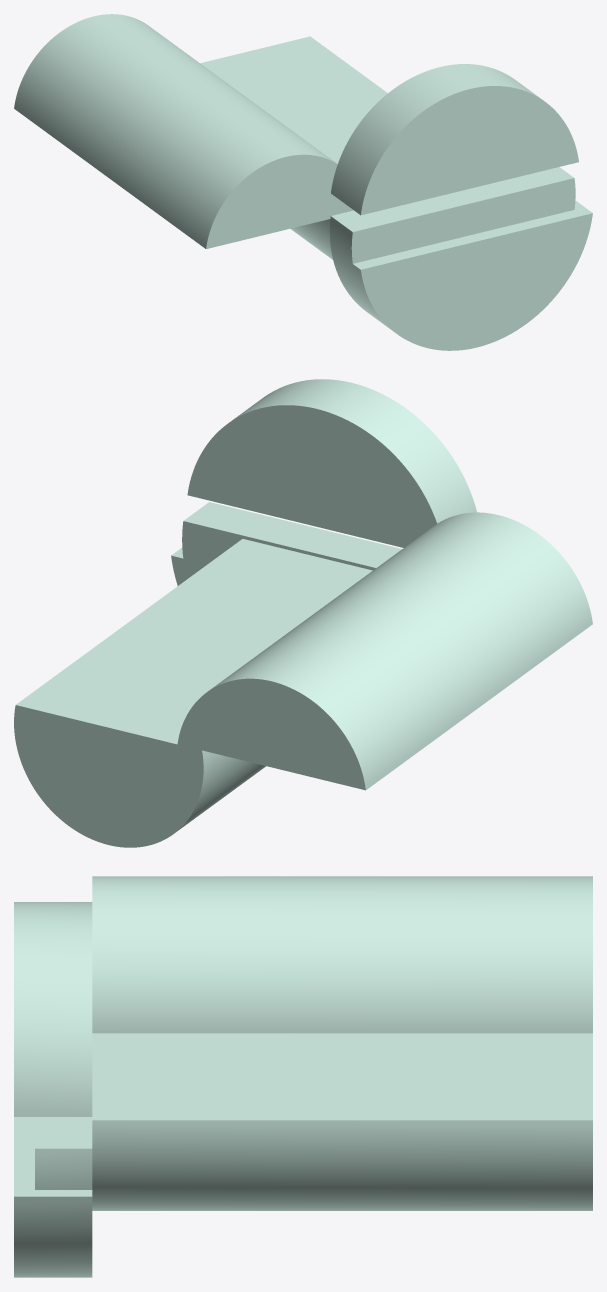
The picture shows the model from 3 angles, top to bottom: view 1: azimuth 30°, elevation 25°; view 2: azimuth 150°, elevation 25°; view 3: azimuth 270°, elevation 25°; orthographic projection. The views are drawn at different scales.
Visible parts, largest first — view 1: Renderer Node; view 2: Renderer Node; view 3: Renderer Node.
Boxes of the visible parts, x1,y1,x2,y2 form: Renderer Node: [14, 14, 592, 350]; Renderer Node: [14, 379, 592, 847]; Renderer Node: [14, 876, 592, 1277].
Size of the model in its own units: 0.8047 by 0.5607 by 0.8672.
